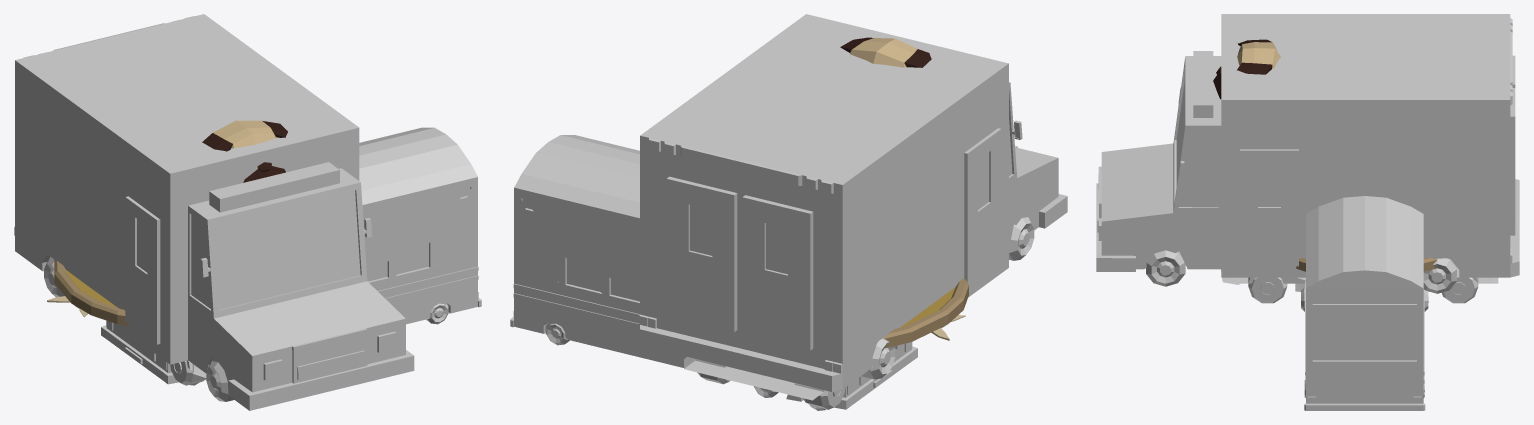
Rendered from props.glb.
3 renders of one model, left to right at view 1: azimuth 30°, elevation 25°; view 2: azimuth 150°, elevation 25°; view 3: azimuth 270°, elevation 25°, orthographic. The views are drawn at different scales.
Visible parts, largest first — view 1: Ambulance, SchoolBus, Bus, Pug, Pizza, Taxi; view 2: Ambulance, SchoolBus, Bus, Taxi, Pizza, Pug; view 3: Ambulance, SchoolBus, Bus, Taxi, Pug.
Boxes of the visible parts, left/top/right/bottom form: Ambulance: left=14, top=14, right=414, bottom=410; SchoolBus: left=101, top=127, right=477, bottom=385; Bus: left=363, top=195, right=481, bottom=324; Pug: left=202, top=120, right=287, bottom=182; Pizza: left=54, top=260, right=130, bottom=325; Taxi: left=75, top=306, right=206, bottom=385; Ambulance: left=639, top=14, right=1067, bottom=391; SchoolBus: left=514, top=135, right=917, bottom=410; Bus: left=510, top=208, right=778, bottom=397; Taxi: left=684, top=325, right=945, bottom=409; Pizza: left=883, top=278, right=968, bottom=348; Pug: left=840, top=37, right=931, bottom=67; Ambulance: left=1096, top=14, right=1519, bottom=293; SchoolBus: left=1295, top=196, right=1429, bottom=369; Bus: left=1301, top=277, right=1428, bottom=410; Taxi: left=1220, top=269, right=1498, bottom=303; Pug: left=1213, top=39, right=1280, bottom=99.
Bounding box in the file's own units: 5.68 × 3.76 × 5.72.
